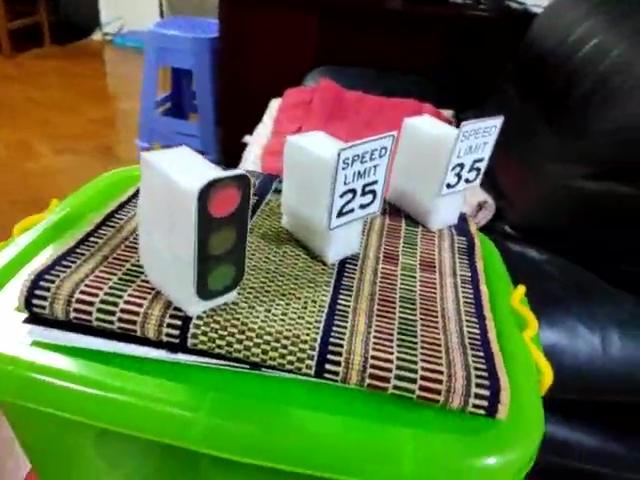Red Traffic Light: (196, 174, 250, 299)
Speed Limit 25: (327, 131, 395, 230)
Speed Limit 35: (440, 116, 505, 194)
